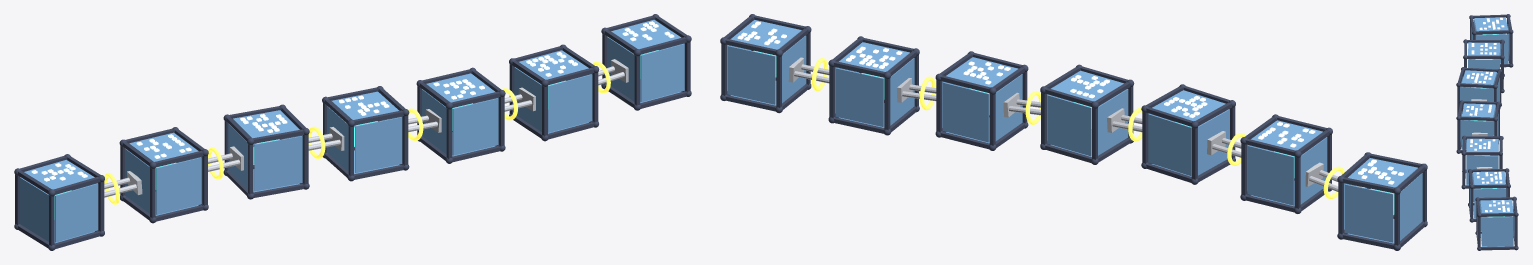
File: blockchain.glb
3 renders of one model, left to right at view 1: azimuth 30°, elevation 25°; view 2: azimuth 150°, elevation 25°; view 3: azimuth 270°, elevation 25°, orthographic. The views are drawn at different scales.
Visible parts, largest first — view 1: BlockPanels, BlockFrames, ChainLinks, HashBits, LinkRings; view 2: BlockPanels, BlockFrames, ChainLinks, HashBits, LinkRings; view 3: BlockPanels, BlockFrames, HashBits, ChainLinks, BlockCores.
Boxes of the visible parts, left/top/right/bottom form: BlockPanels: left=20, top=19, right=684, bottom=243; BlockFrames: left=14, top=14, right=691, bottom=250; ChainLinks: left=104, top=59, right=628, bottom=197; HashBits: left=31, top=21, right=674, bottom=181; LinkRings: left=104, top=61, right=610, bottom=204; BlockPanels: left=727, top=20, right=1422, bottom=243; BlockFrames: left=720, top=14, right=1427, bottom=250; ChainLinks: left=788, top=57, right=1365, bottom=191; HashBits: left=737, top=21, right=1403, bottom=184; LinkRings: left=811, top=58, right=1344, bottom=199; BlockPanels: left=1460, top=17, right=1514, bottom=246; BlockFrames: left=1456, top=14, right=1518, bottom=250; HashBits: left=1466, top=17, right=1509, bottom=212; ChainLinks: left=1471, top=59, right=1493, bottom=217; BlockCores: left=1470, top=34, right=1504, bottom=217.
Size of the model in its own units: 12.58 by 1.48 by 1.69.
